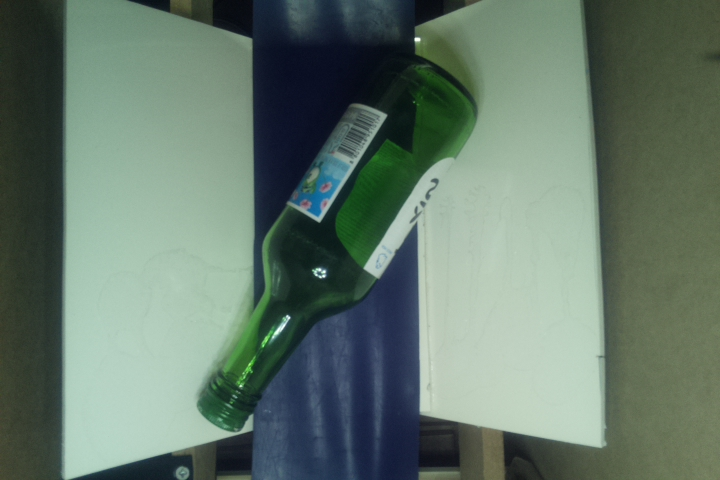soju: (196, 53, 482, 438)
